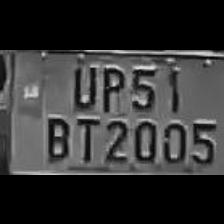0: (128, 115, 158, 163), (158, 117, 187, 163)
1: (162, 61, 188, 112)
2: (98, 116, 128, 164)
5: (187, 116, 217, 166), (126, 64, 158, 110)
B: (41, 113, 71, 162)
P: (96, 61, 126, 112)
T: (70, 114, 100, 162)
U: (66, 58, 96, 110)
